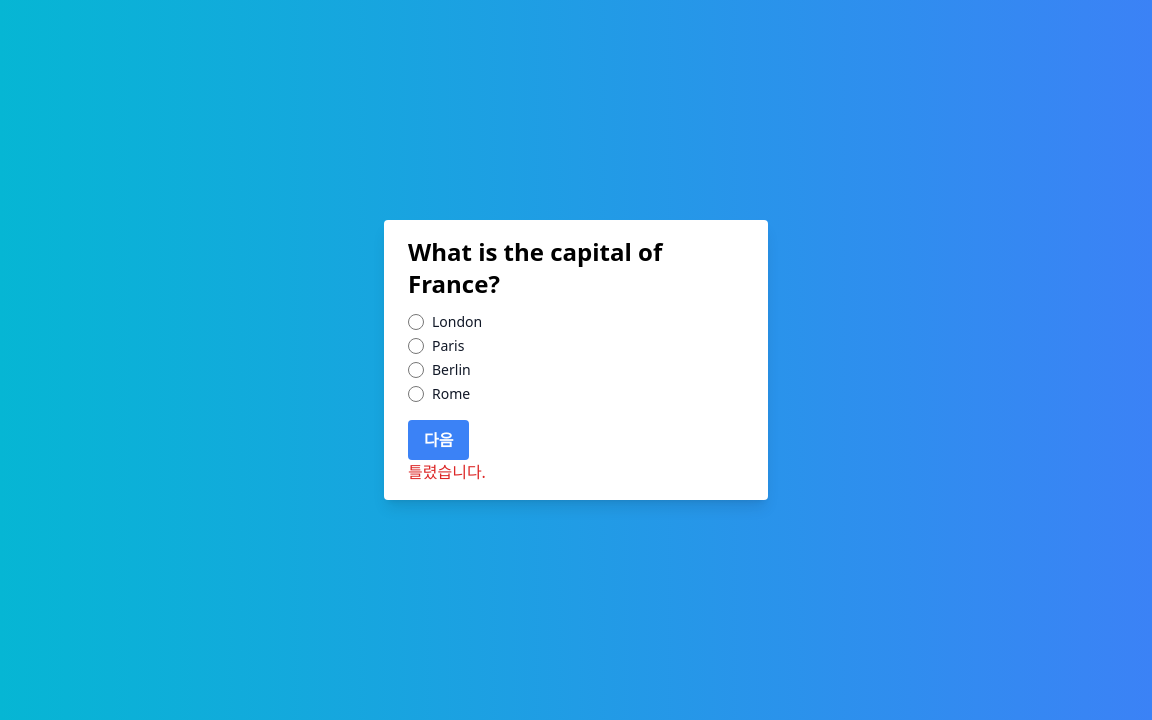
Scenario: QuizForm 의 동적인 상태에 따른 처리 › 답안선택시 맞았을경우 "정답입니다." 노출
Click the text "London": (457, 322) [432,312,482,332]
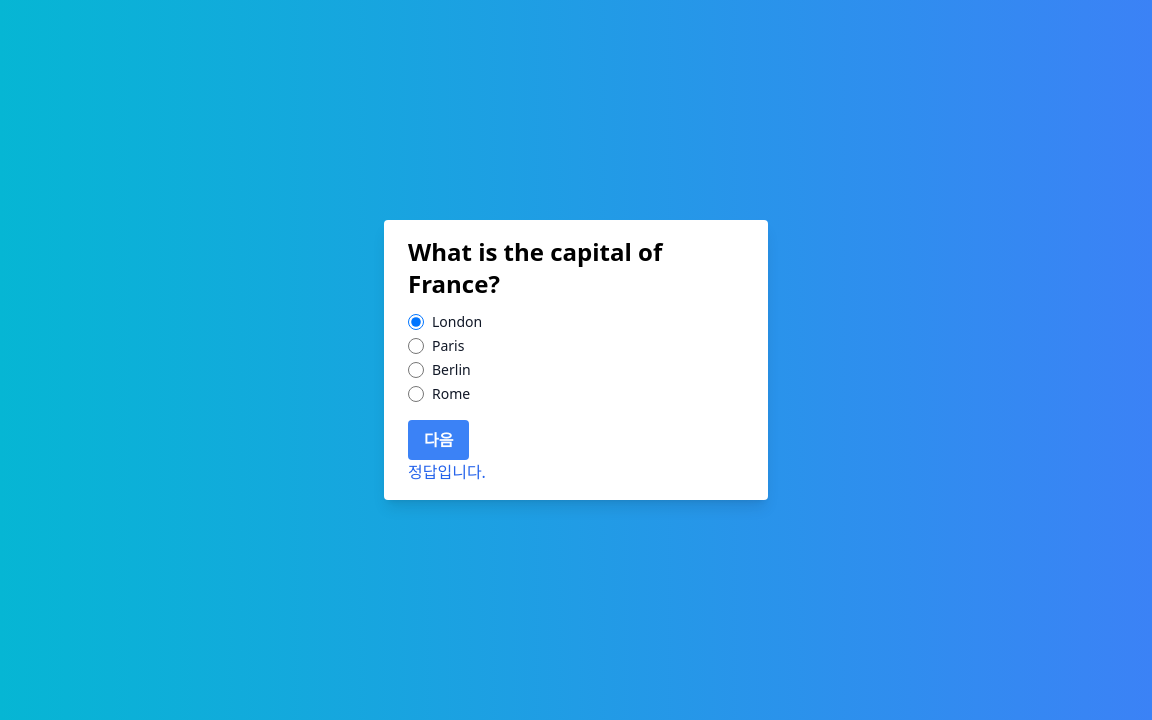
Now the text "정답입니다." is shown, box [408,461,486,483]
